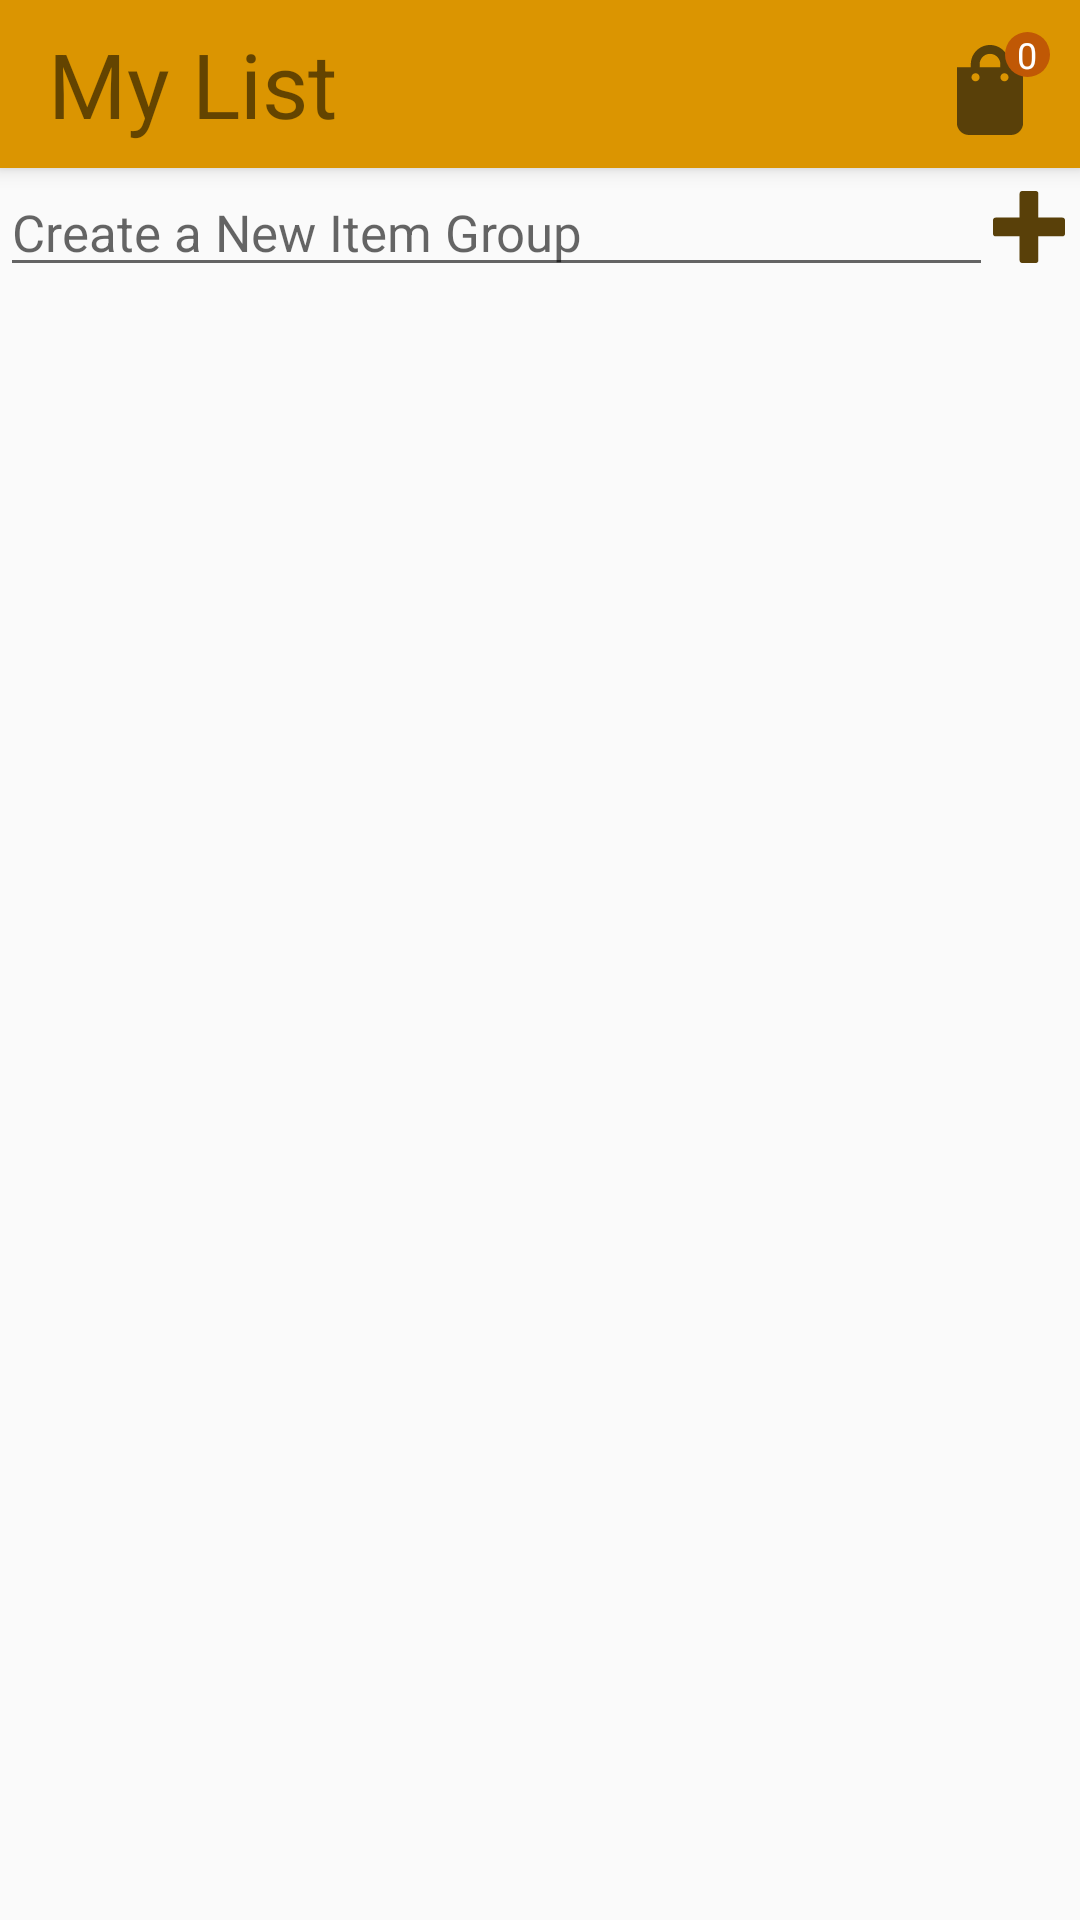

Icons on this 1080×1920 Android screen, each with the point to tap as (x=x, y=y):
plus symbol: (x=1029, y=227)
shopping bag: (x=996, y=90)
